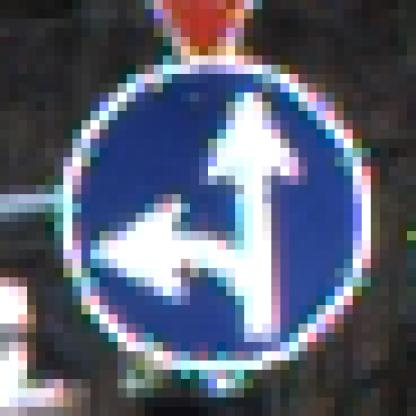Straight or Left: (55, 56, 372, 371)
